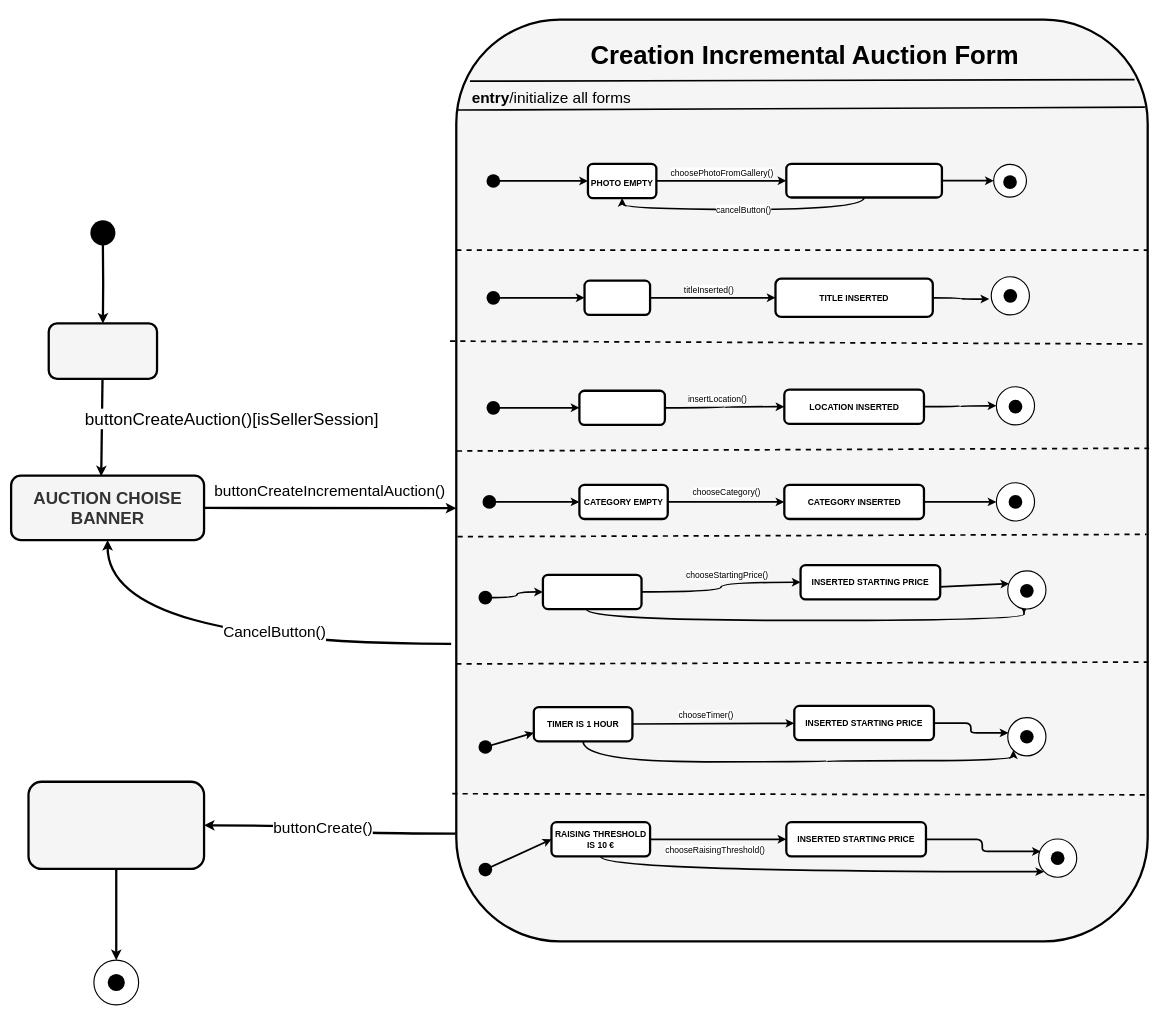
This 1160x1015 diagram has some shape labels left out. Here are the shapes that lost their labels. From the top down, the centre of each, then its label:
the point at 864,180: SELECTED PHOTO
the point at 617,297: TITLE EMPTY
the point at 102,351: HOME
the point at 622,407: LOCATION EMPTY
the point at 592,591: STARTING PRICE IS 0
the point at 116,825: BANNER AUCTION CREATED
